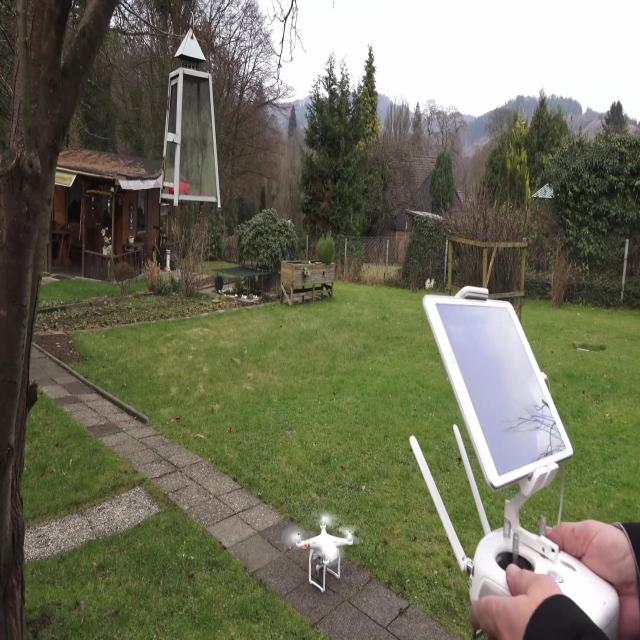drone: (284, 508, 359, 592)
